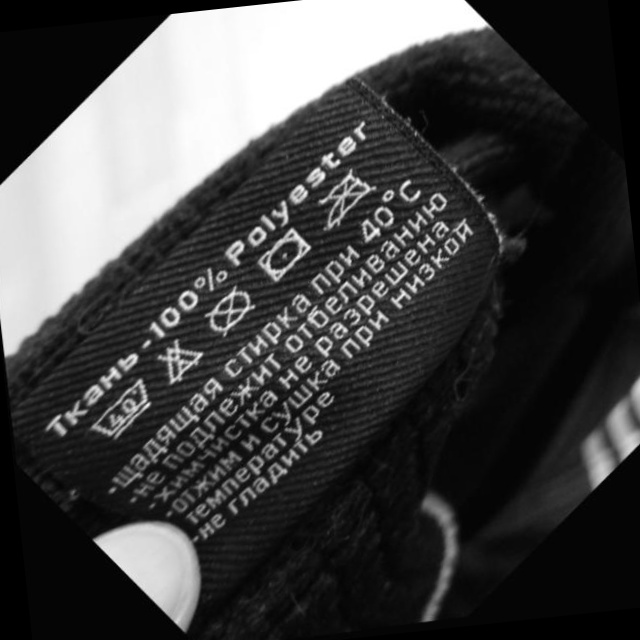40C: (88, 378, 162, 448)
DN_bleach: (157, 336, 209, 390)
DN_dry_clean: (204, 285, 262, 340)
DN_iron: (311, 167, 382, 231)
tumble_dry_low: (255, 227, 323, 285)
